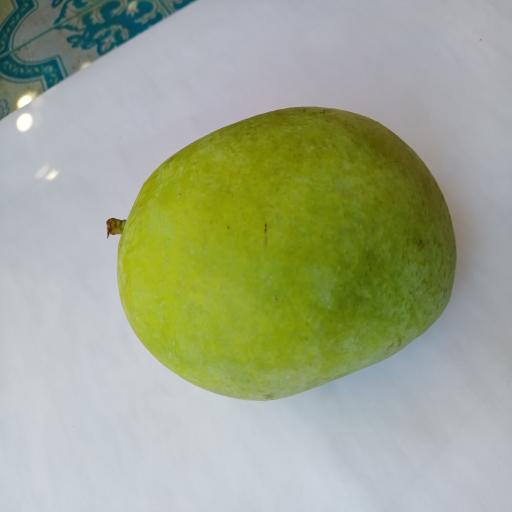mango-unripe: (87, 86, 469, 427)
